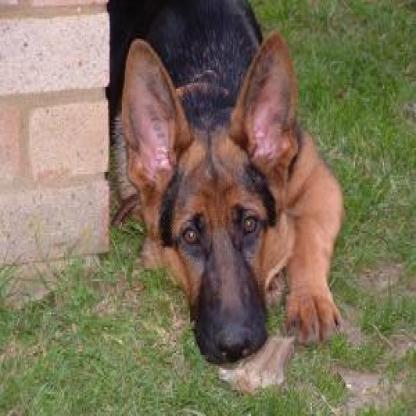dog: (109, 0, 346, 348)
